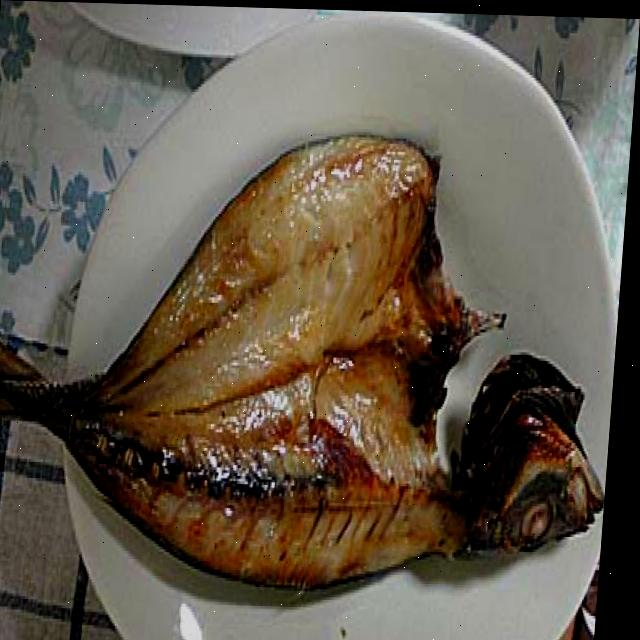熟制海鲜: (267, 23, 577, 640)
